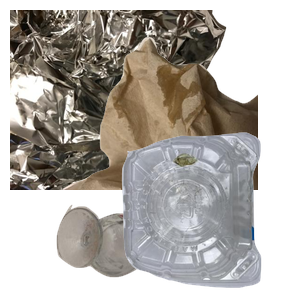glass: (54, 202, 193, 300)
metal: (10, 10, 229, 190)
plastic: (119, 130, 300, 300)
trash: (60, 35, 300, 215)
